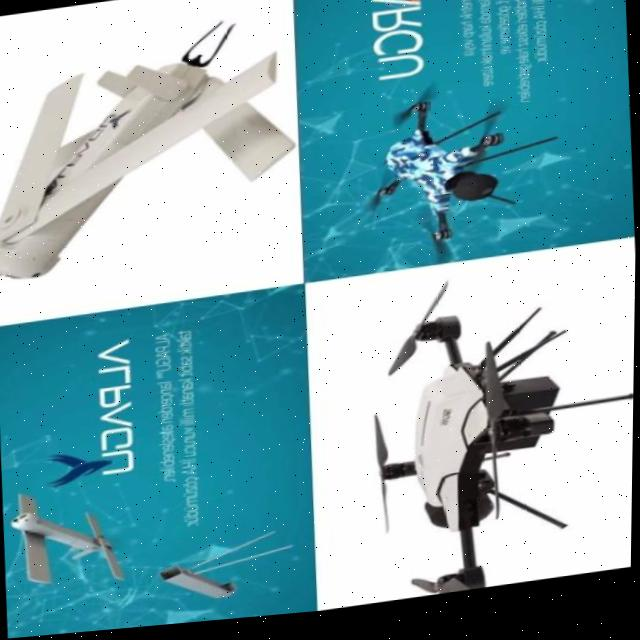drones: (0, 3, 303, 318), (338, 282, 628, 606), (333, 85, 583, 308), (2, 477, 160, 623)
